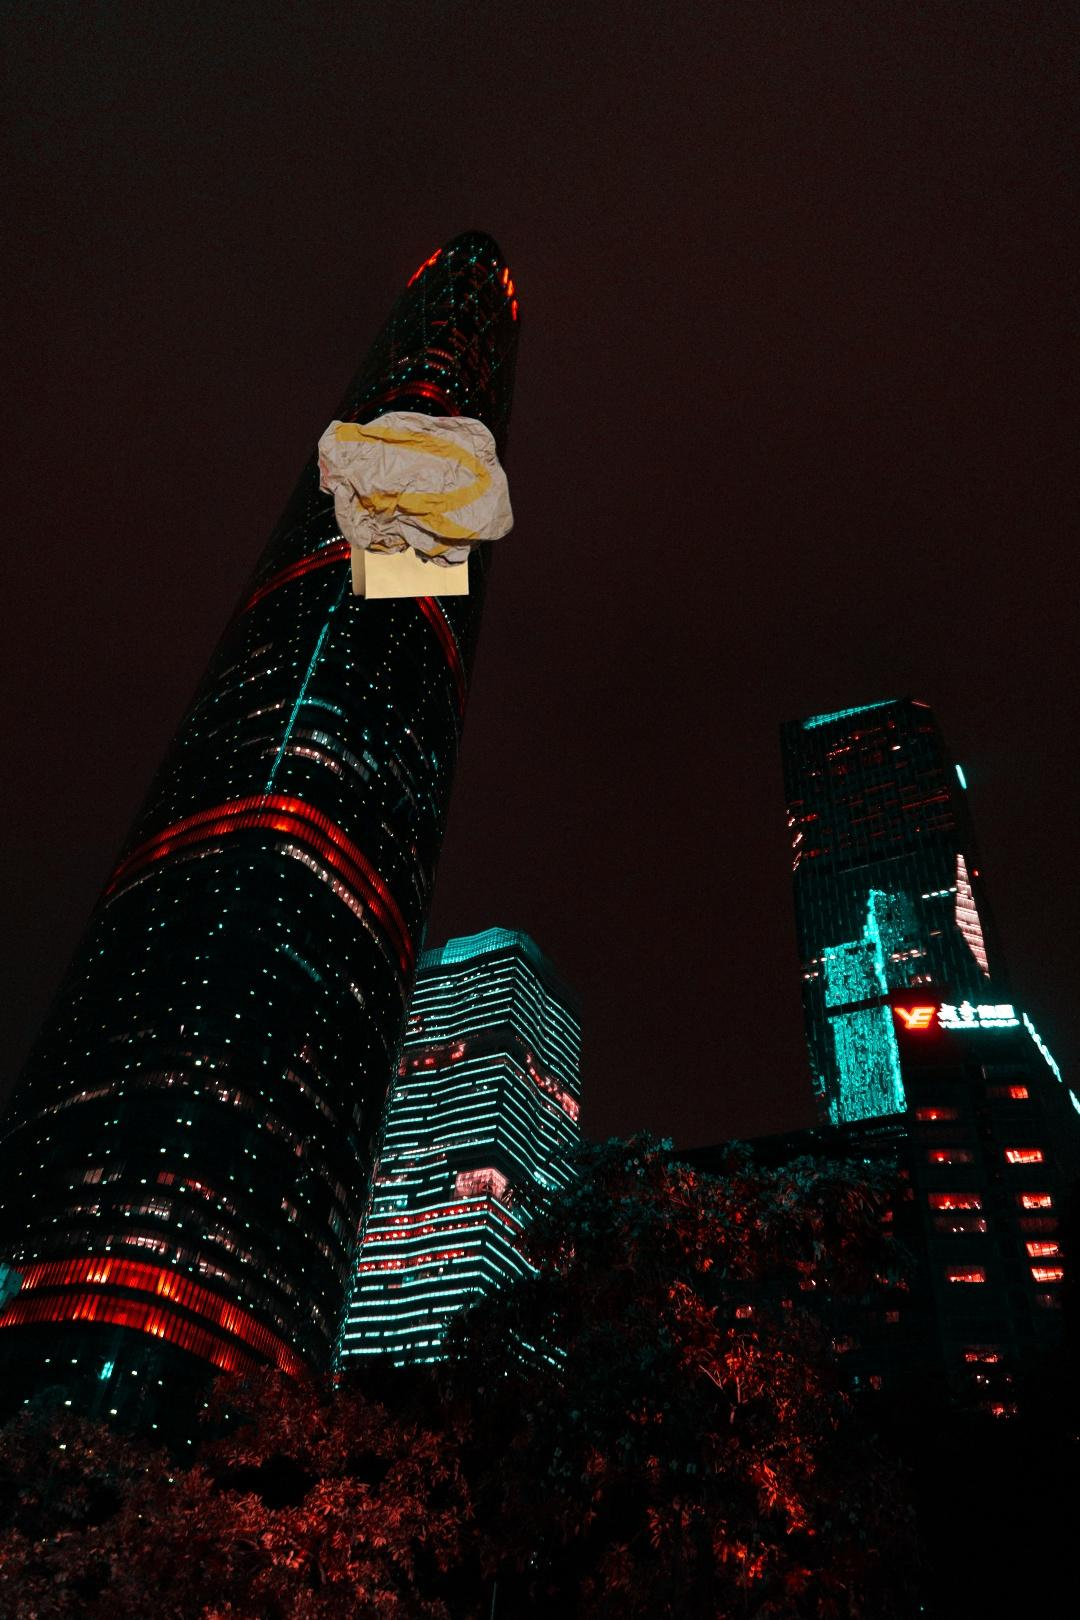paper-bag: (316, 407, 518, 601)
